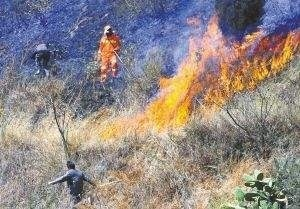fire: (97, 25, 118, 79)
